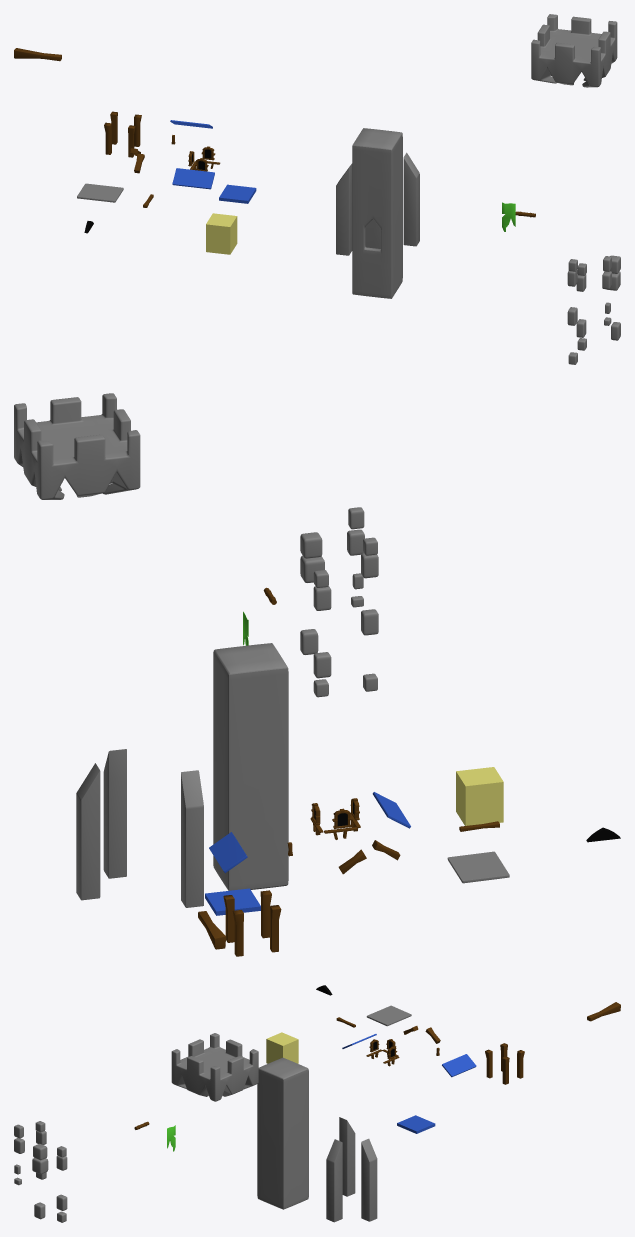
The model's file is TallSideTower.fbx.
3 renders of one model, top to bottom at view 1: azimuth 30°, elevation 25°; view 2: azimuth 150°, elevation 25°; view 3: azimuth 270°, elevation 25°, orthographic. The views are drawn at different scales.
Parts seen in each view (by area): view 1: TallSideTower; view 2: TallSideTower; view 3: TallSideTower.
Part boxes in pixels (x1,y1,x2,y2): TallSideTower: (14,14,620,364); TallSideTower: (14,393,620,956); TallSideTower: (14,985,620,1222).
Bounding box in the file's own units: 6250 × 3112 × 7925.
